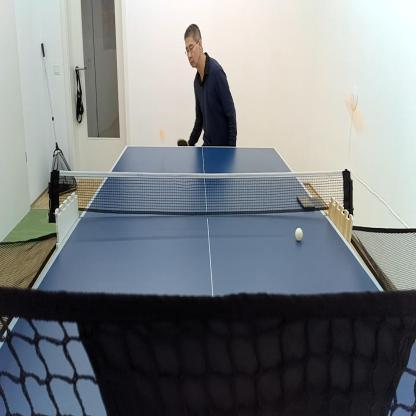Ball: (346, 95, 361, 132), (296, 227, 302, 242), (159, 129, 165, 140)
